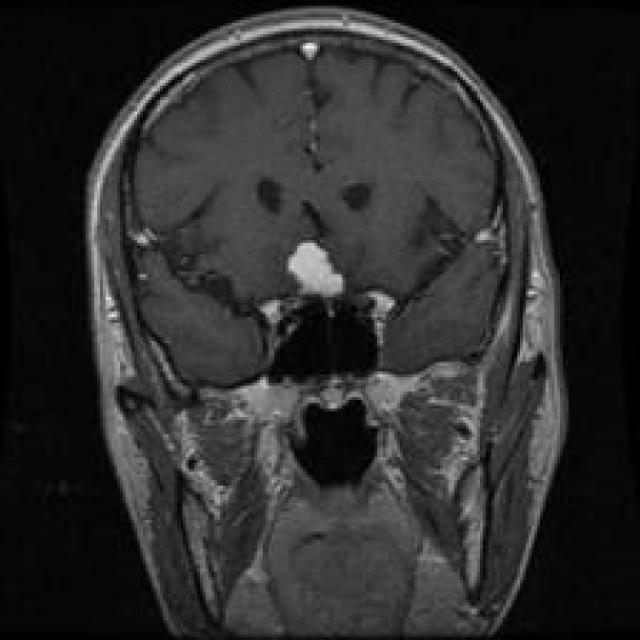meningioma_tumor: (274, 234, 359, 313)
